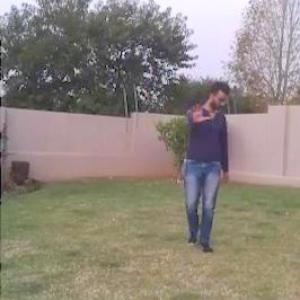follow_hand: (187, 98, 212, 125)
